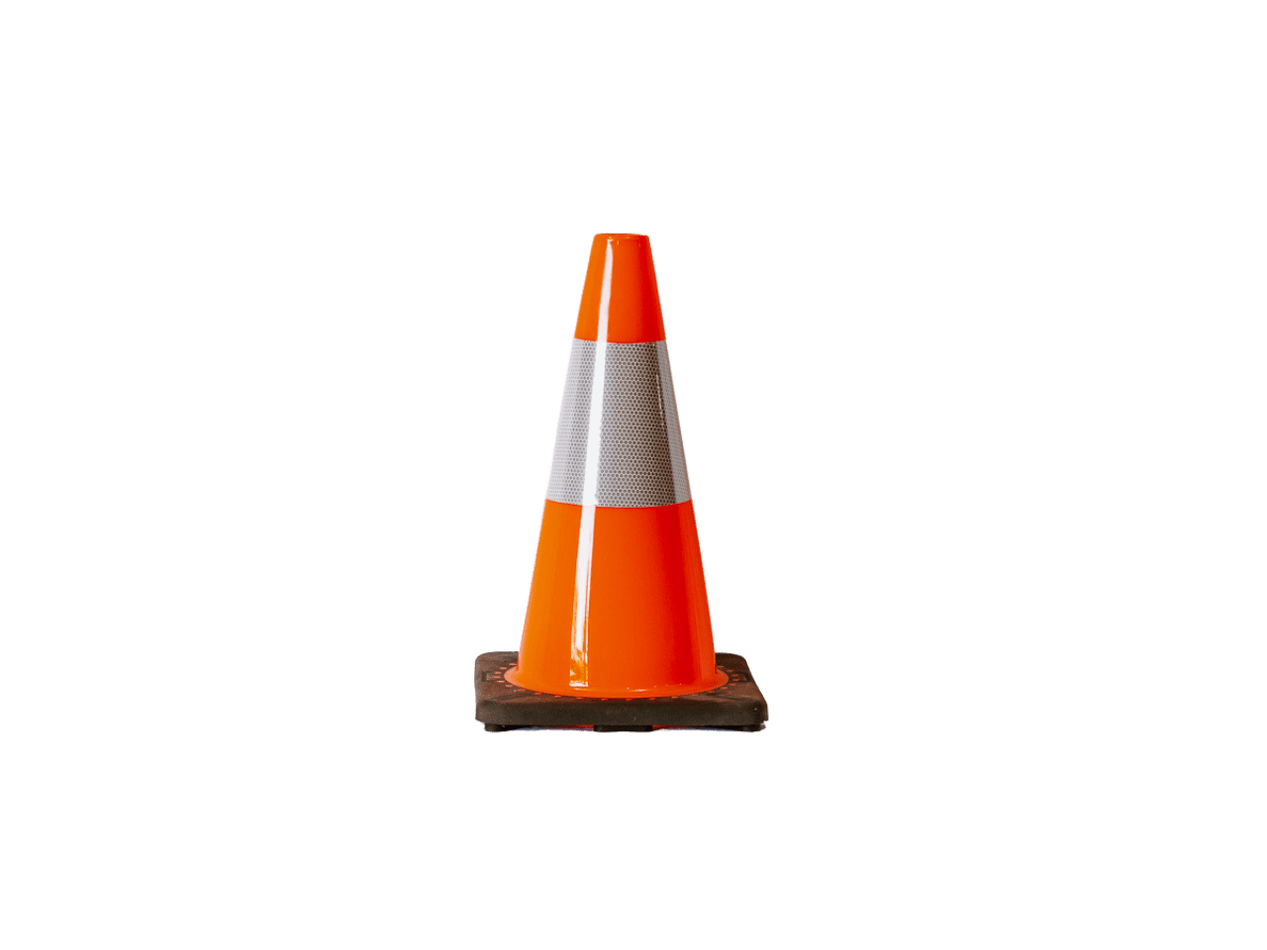Road_cone: (465, 222, 810, 764)
